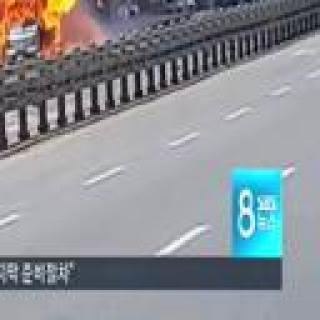fire: (48, 0, 92, 13), (0, 32, 1, 74)
